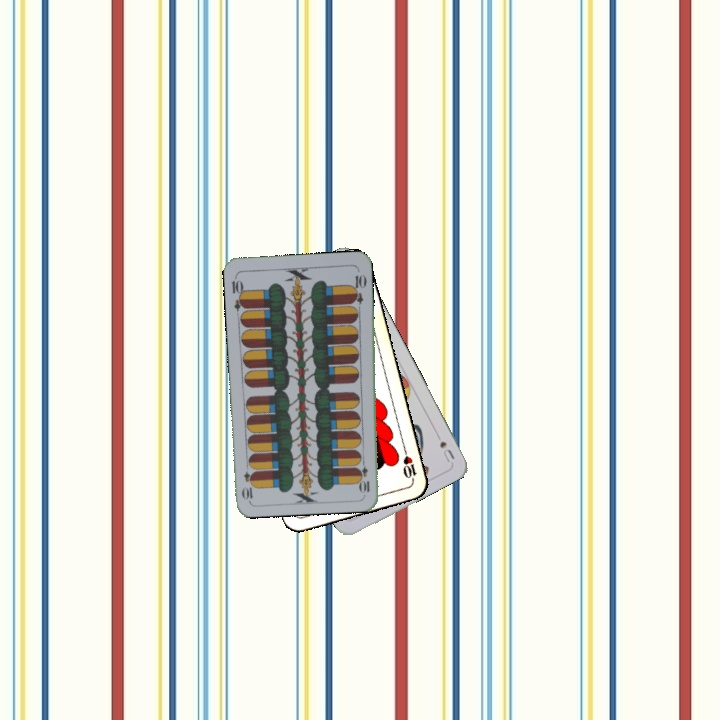E10: (228, 272, 248, 313), (357, 455, 372, 495)
H10: (399, 445, 419, 485)
SU: (436, 437, 457, 465)
